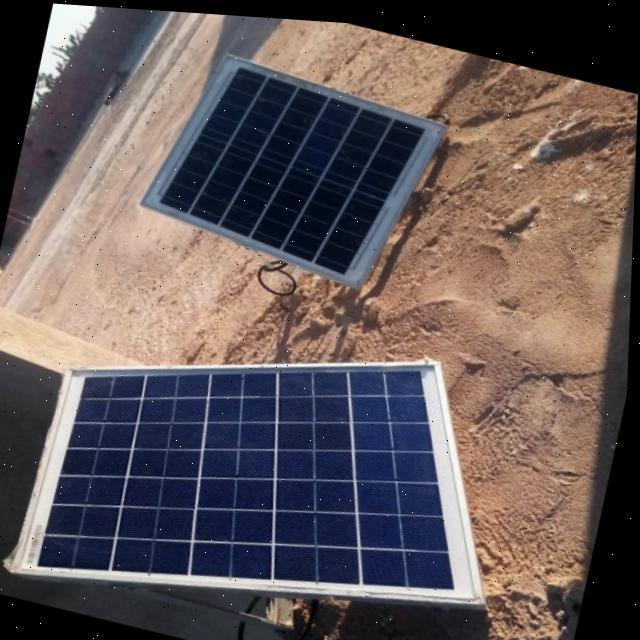Normal Solar Panel: (11, 271, 532, 640)
